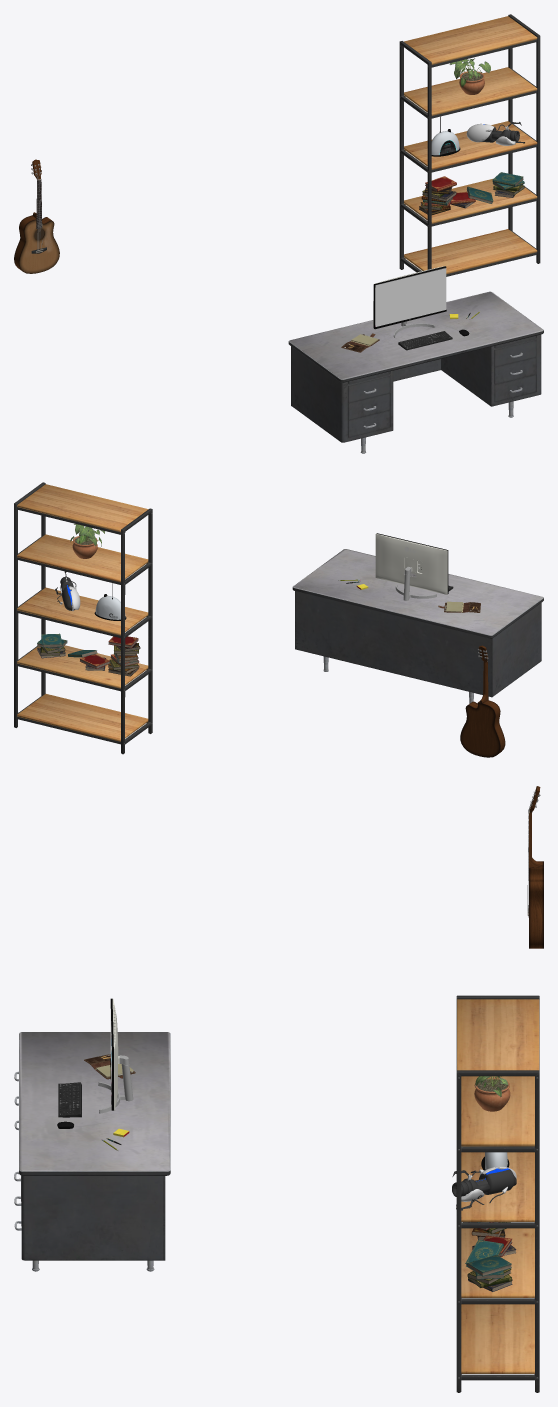
File: office.glb
3 views of the same model, one above another, from view 1: azimuth 30°, elevation 25°; view 2: azimuth 150°, elevation 25°; view 3: azimuth 270°, elevation 25° (orthographic). The views are drawn at different scales.
Visible parts, largest first — view 1: metal_office_desk_drawer_06, steel_frame_shelves_01, ScreenAnchor, Acoustic Guitar_Guitar_0, Book_s.005, Book_s.004, SM_Keyboard_Material_0; view 2: metal_office_desk_drawer_06, steel_frame_shelves_01, Cube.021_back_0, Acoustic Guitar_Guitar_0, Book_s.004, Book_s.005, Shell_Shell_0, binder_notebook, Book_s.002, potted_plant_02_pot, Cylinder, potted_plant_02_leaves (+1 smaller); view 3: metal_office_desk_drawer_06, steel_frame_shelves_01, Acoustic Guitar_Guitar_0, Book_s.005, Cylinder, potted_plant_02_pot, SM_Keyboard_Material_0.
Boxes of the visible parts, x1=… form: metal_office_desk_drawer_06: x1=288, y1=291, x2=543, y2=453; steel_frame_shelves_01: x1=399, y1=14, x2=540, y2=276; ScreenAnchor: x1=375, y1=268, x2=446, y2=326; Acoustic Guitar_Guitar_0: x1=14, y1=159, x2=59, y2=273; Book_s.005: x1=423, y1=172, x2=524, y2=205; Book_s.004: x1=424, y1=176, x2=475, y2=206; SM_Keyboard_Material_0: x1=398, y1=331, x2=452, y2=350; metal_office_desk_drawer_06: x1=292, y1=549, x2=543, y2=703; steel_frame_shelves_01: x1=14, y1=482, x2=152, y2=754; Cube.021_back_0: x1=375, y1=533, x2=447, y2=594; Acoustic Guitar_Guitar_0: x1=460, y1=645, x2=505, y2=757; Book_s.004: x1=80, y1=636, x2=139, y2=668; Book_s.005: x1=37, y1=633, x2=137, y2=663; Shell_Shell_0: x1=95, y1=596, x2=125, y2=619; binder_notebook: x1=438, y1=601, x2=480, y2=612; Book_s.002: x1=38, y1=641, x2=138, y2=670; potted_plant_02_pot: x1=72, y1=536, x2=97, y2=558; Cylinder: x1=55, y1=564, x2=421, y2=610; potted_plant_02_leaves: x1=70, y1=524, x2=104, y2=546; metal_office_desk_drawer_06: x1=14, y1=1032, x2=170, y2=1271; steel_frame_shelves_01: x1=456, y1=995, x2=539, y2=1392; Acoustic Guitar_Guitar_0: x1=527, y1=786, x2=543, y2=948; Book_s.005: x1=465, y1=1222, x2=511, y2=1279; Cylinder: x1=452, y1=1168, x2=516, y2=1210; potted_plant_02_pot: x1=474, y1=1077, x2=510, y2=1111; SM_Keyboard_Material_0: x1=58, y1=1082, x2=81, y2=1117.
Bounding box in the file's own units: 4.87 × 2.14 × 3.2.
Materials: 38 (32 with a texture image).
